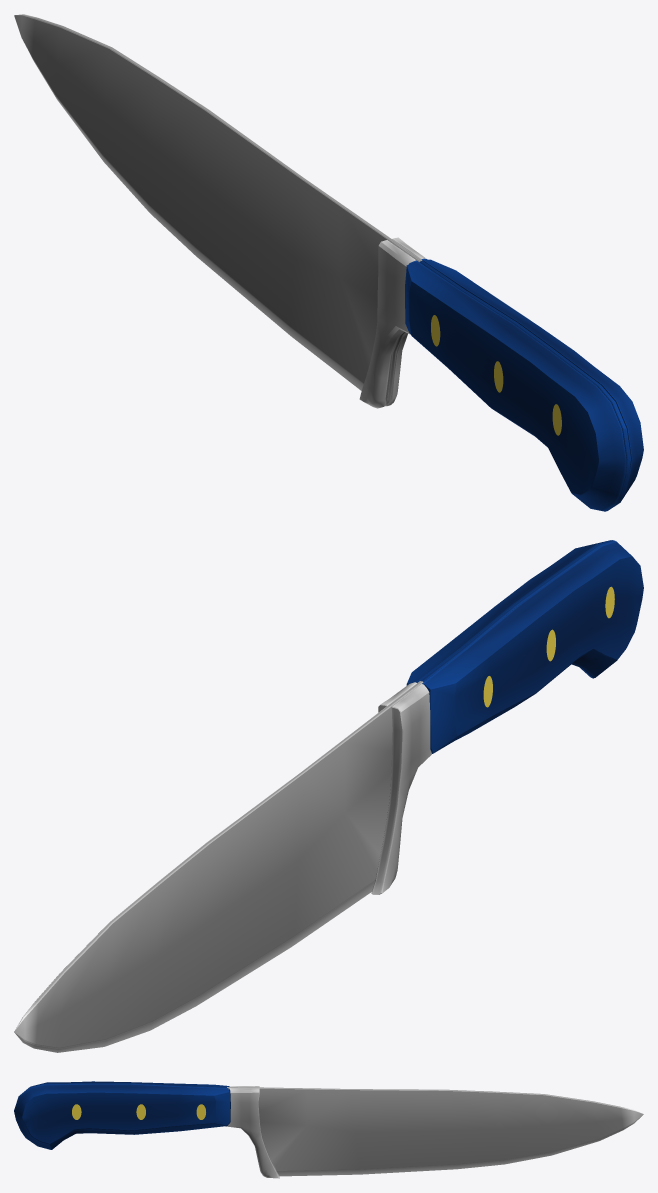
The model's file is knife.fbx.
The picture shows the model from 3 angles, top to bottom: view 1: azimuth 30°, elevation 25°; view 2: azimuth 150°, elevation 25°; view 3: azimuth 270°, elevation 25°; orthographic projection. The views are drawn at different scales.
Parts seen in each view (by area): view 1: Knife; view 2: Knife; view 3: Knife.
Part boxes in pixels (box(x1,y1,x2,y2)): Knife: box(14, 14, 643, 511); Knife: box(14, 540, 643, 1052); Knife: box(14, 1081, 643, 1178).
Bounding box in the file's own units: 11.82 × 36.08 × 220.
